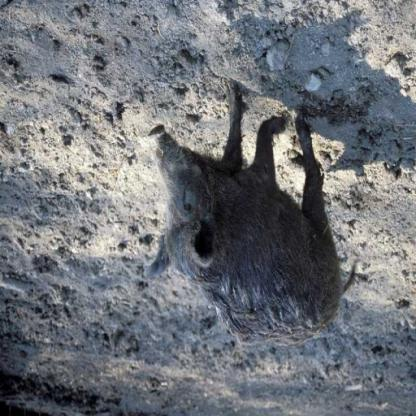boar: (133, 79, 341, 361)
